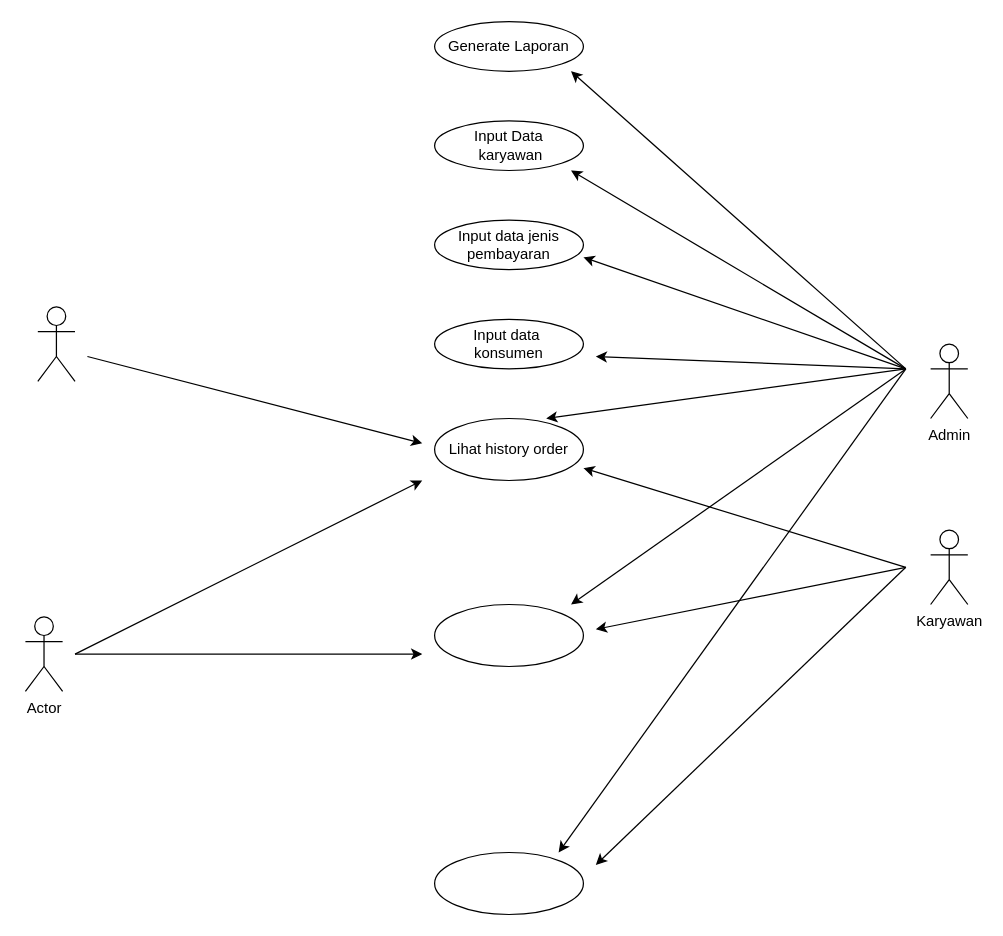
This 1003x936 diagram has some shape labels left out. Each missing label, with the box of its shape:
Buat transaksi pemesanan: (433, 851, 583, 914)
Konsumen: (37, 306, 75, 381)
Login: (433, 603, 583, 666)
